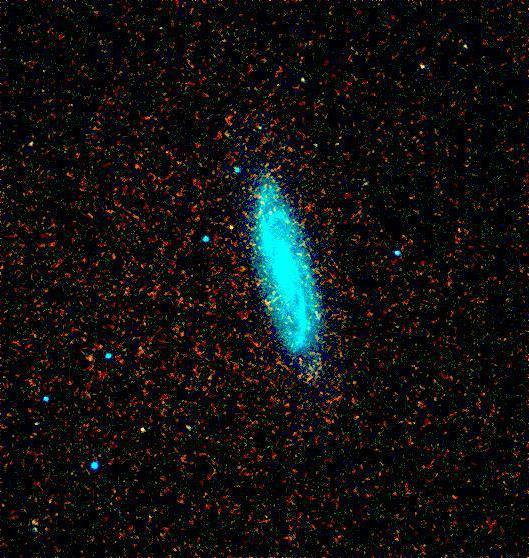star: (217, 212, 247, 242)
